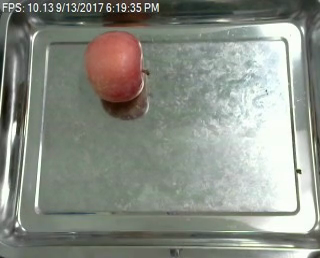Apple: (83, 28, 145, 104)
